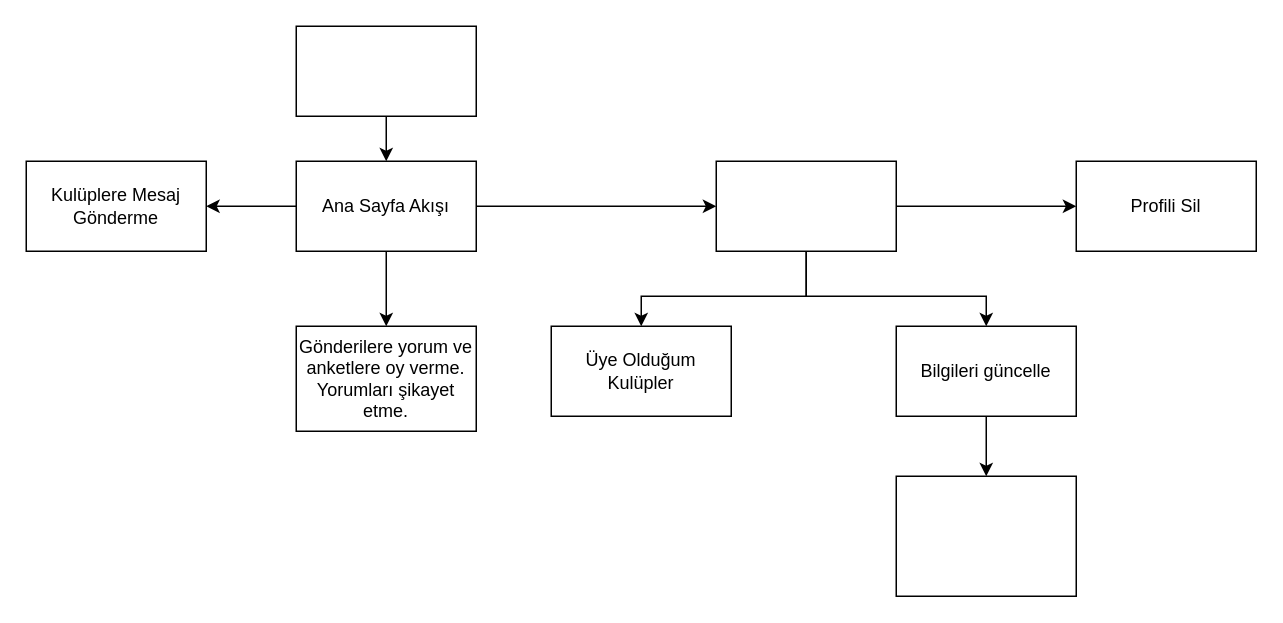
The diagram is 1283 pixels wide and 623 high, and some of its shapes have lost their labels. The shapes that lost their labels are listed below. From the top down, each one's box as (x1, y1, x2, y2) in pixels, then its label:
(295, 25, 476, 116): Giriş
(715, 160, 896, 251): Profilim
(895, 475, 1076, 596): Ad Soyad Fakülte Bölüm Mail Adresi Şifre
